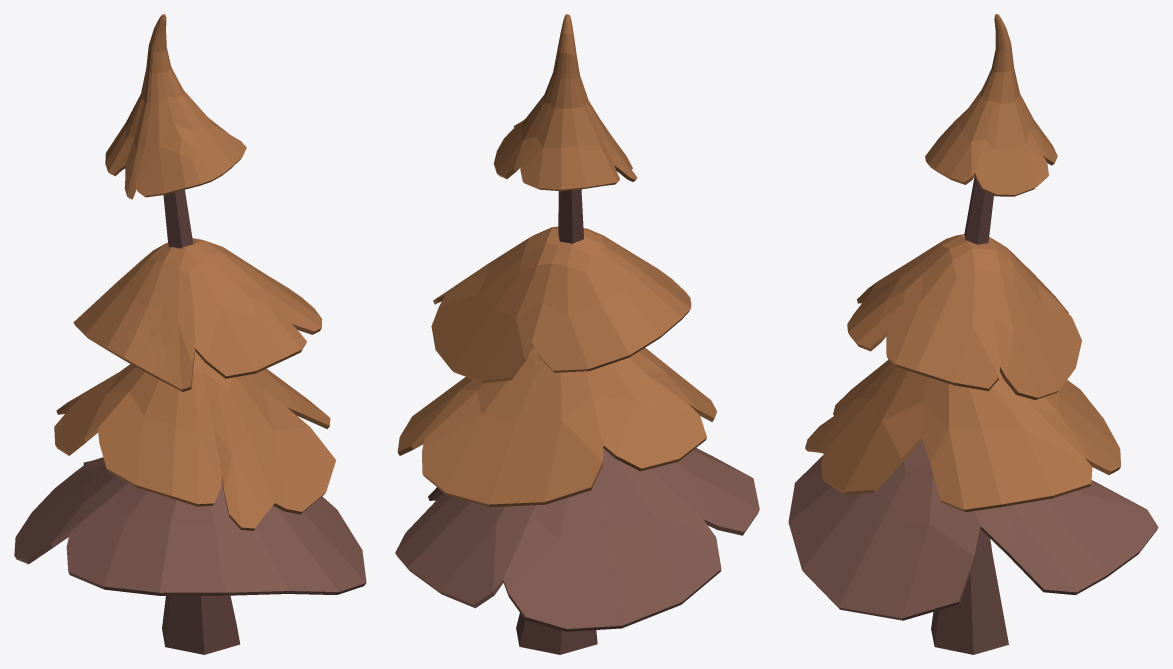
3 views of the same model, side by side, from view 1: azimuth 30°, elevation 25°; view 2: azimuth 150°, elevation 25°; view 3: azimuth 270°, elevation 25° (orthographic). The views are drawn at different scales.
Parts seen in each view (by area): view 1: PineTree_Autumn_2; view 2: PineTree_Autumn_2; view 3: PineTree_Autumn_2.
Boxes of the visible parts, <box> form: PineTree_Autumn_2: <box>14,14,366,654</box>; PineTree_Autumn_2: <box>395,14,759,654</box>; PineTree_Autumn_2: <box>788,14,1158,654</box>.
Size of the model in its own units: 1.8 by 3.56 by 1.96.
